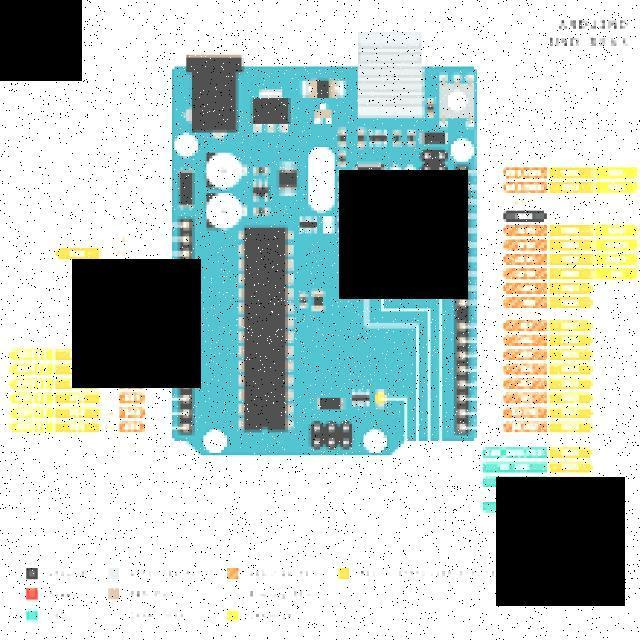arduino: (165, 47, 478, 458)
